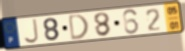2: (145, 8, 162, 32)
6: (122, 8, 140, 36)
8: (93, 12, 113, 38), (43, 17, 61, 42)
D: (68, 13, 90, 42)
J: (22, 18, 40, 45)
